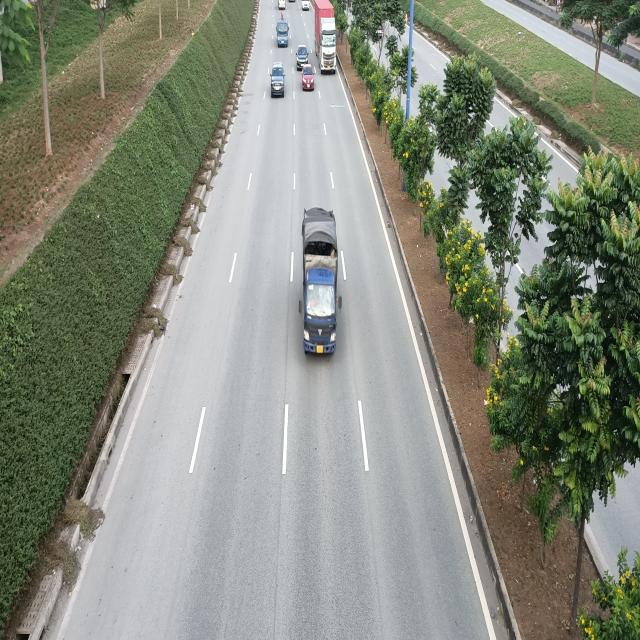car: (271, 64, 286, 98)
container: (314, 0, 338, 70)
truck: (300, 206, 342, 358)
